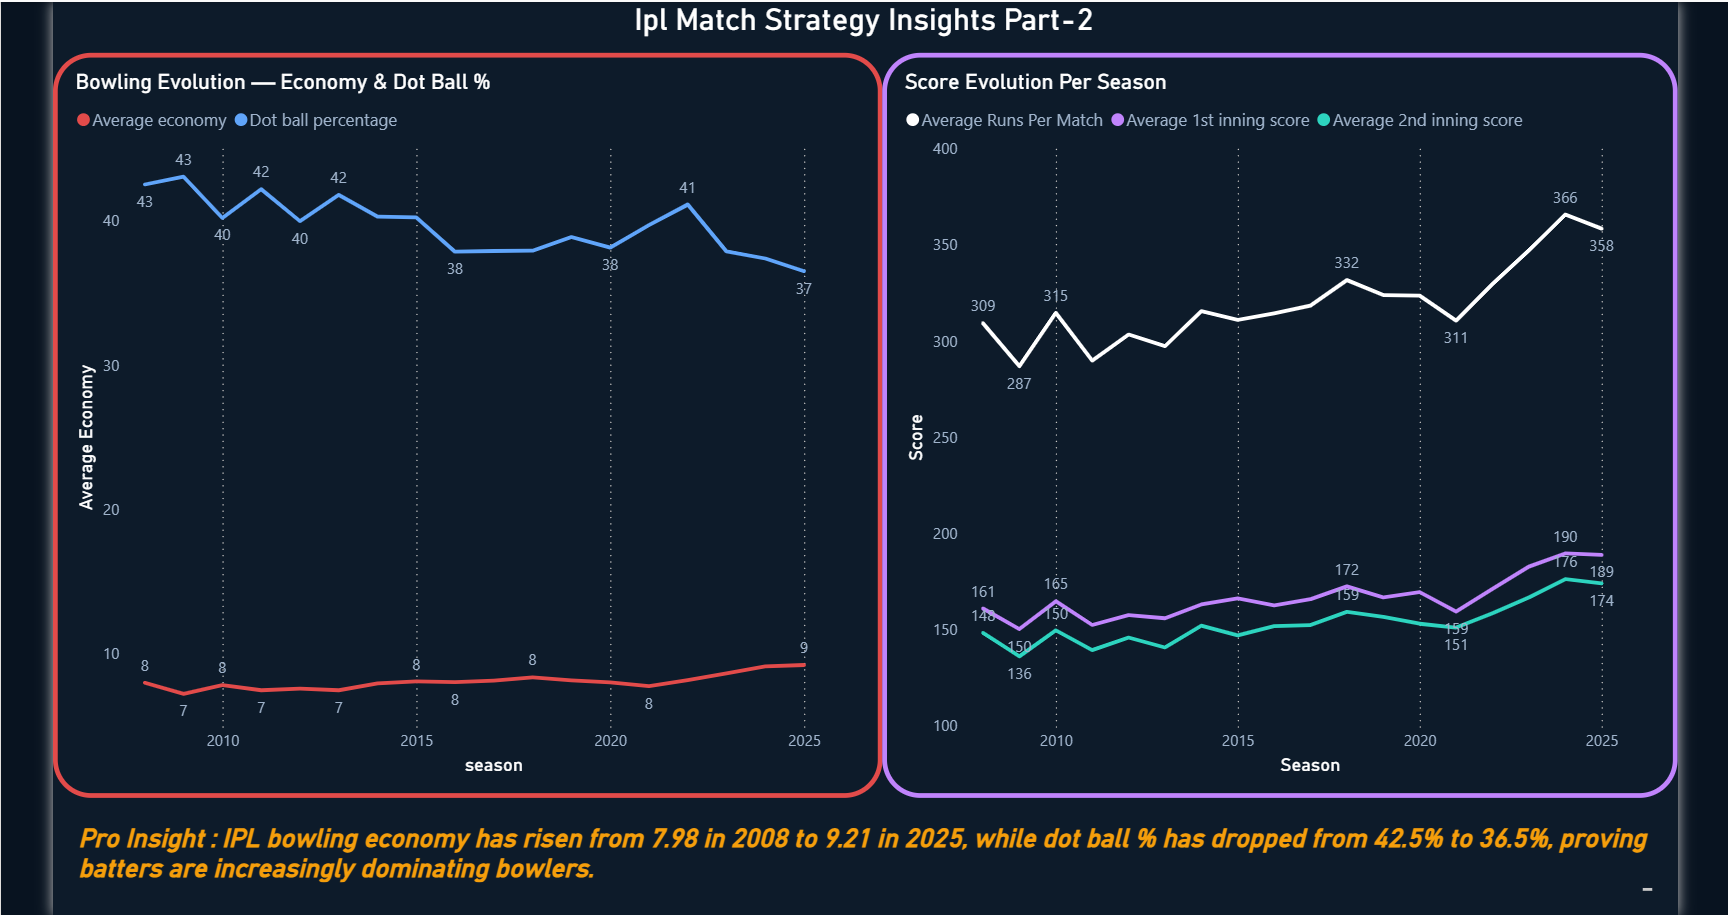

What the dashboard file says about the page in this screenshot:
{"tool":"powerbi","page":{"name":"Page 5","canvas":[1280,720],"ordinal":4},"visuals":[{"type":"textbox","title":"Ipl Match Strategy Insights Part-2 ","box":[452.5,0,375.8,39.6],"z":0},{"type":"lineChart","title":"Bowling Evolution — Economy & Dot Ball %","fields":{"Category":["IPL_Bowling_Evolution.season"],"Y":["Sum(IPL_Bowling_Evolution.avg_economy)","Sum(IPL_Bowling_Evolution.dot_ball_percentage)"]},"box":[0,39.6,653.3,586.8],"z":1000},{"type":"lineChart","title":"Score Evolution Per Season","fields":{"Category":["IPL_Master_Scoring_Evolution.season"],"Y":["Sum(IPL_Master_Scoring_Evolution.avg_runs_per_match)","Sum(IPL_Master_Scoring_Evolution.avg_1st_innings)","Sum(IPL_Master_Scoring_Evolution.avg_2nd_innings)"]},"box":[653.3,39.6,626.4,586.8],"z":2001},{"type":"textbox","title":"Pro Insight : IPL bowling economy has risen from  7.98 in 2008 to 9.21 in 2025, while dot ball %  has dropped from 42.5% to 36.5%, proving  batters are increasingly dominating bowlers.","box":[0,626.4,1279.7,93.3],"z":2002}]}

Visuals, with their boxes on the page's 1280x720 design canvas (x1, y1, x2, y2). These are canvas units, not pixel positions in the 1728x915 screenshot, which may show the page scaled, cropped or inside an application window:
"Ipl Match Strategy Insights Part-2 " textbox: l=452, t=0, r=828, b=40
"Bowling Evolution — Economy & Dot Ball %" lineChart: l=0, t=40, r=653, b=626
"Score Evolution Per Season" lineChart: l=653, t=40, r=1280, b=626
"Pro Insight : IPL bowling economy has risen from  7.98 in 2008 to 9.21 in 2025, while dot ball %  has dropped from 42.5% to 36.5%, proving  batters are increasingly dominating bowlers." textbox: l=0, t=626, r=1280, b=720
